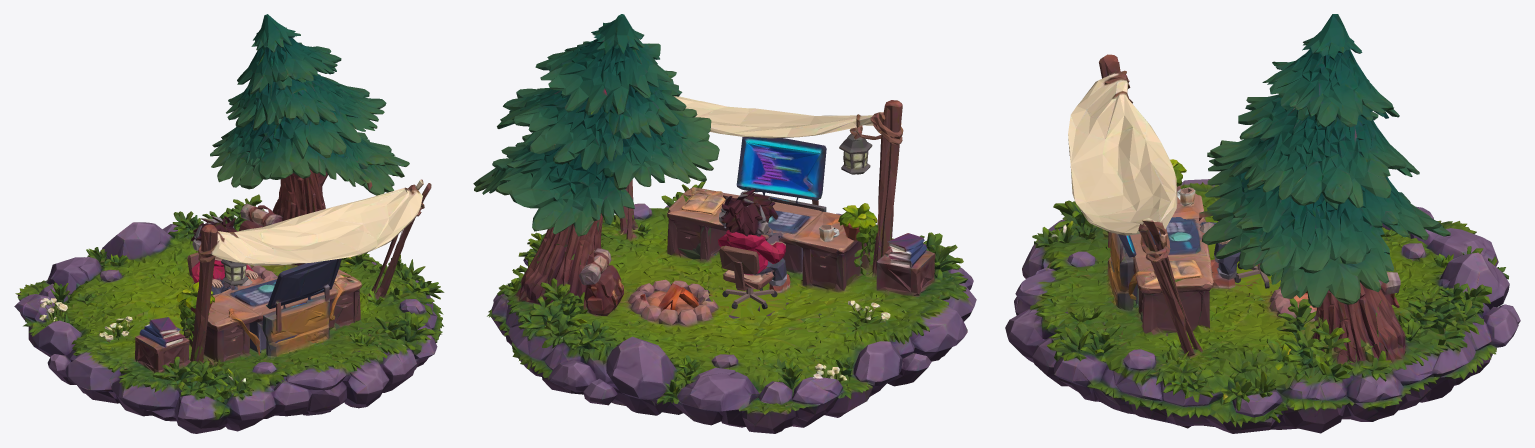
The model's file is island-desk-restored.glb.
3 renders of one model, left to right at view 1: azimuth 30°, elevation 25°; view 2: azimuth 150°, elevation 25°; view 3: azimuth 270°, elevation 25°, orthographic. The views are drawn at different scales.
Parts seen in each view (by area): view 1: Anastasiia trial ground export, model_part4 export, model_part2 export, Anastasiia trial desk export, Anastasiia trial character export; view 2: Anastasiia trial ground export, model_part4 export, Anastasiia trial desk export, model_part2 export, Anastasiia trial character export, Anastasiia trial grass export, Anastasiia trial chair export; view 3: Anastasiia trial ground export, model_part4 export, model_part2 export, Anastasiia trial desk export, Anastasiia trial grass export.
Part boxes in pixels (x1=…): Anastasiia trial ground export: x1=14, y1=194, x2=444, y2=433; model_part4 export: x1=210, y1=14, x2=409, y2=265; model_part2 export: x1=193, y1=179, x2=431, y2=360; Anastasiia trial desk export: x1=176, y1=258, x2=361, y2=362; Anastasiia trial character export: x1=187, y1=215, x2=253, y2=292; Anastasiia trial ground export: x1=487, y1=181, x2=976, y2=433; model_part4 export: x1=473, y1=14, x2=719, y2=274; Anastasiia trial desk export: x1=667, y1=137, x2=878, y2=289; model_part2 export: x1=620, y1=96, x2=903, y2=277; Anastasiia trial character export: x1=718, y1=189, x2=785, y2=290; Anastasiia trial grass export: x1=709, y1=285, x2=786, y2=317; Anastasiia trial chair export: x1=722, y1=287, x2=777, y2=309; Anastasiia trial ground export: x1=1005, y1=179, x2=1520, y2=433; model_part4 export: x1=1199, y1=14, x2=1450, y2=362; model_part2 export: x1=1068, y1=54, x2=1192, y2=356; Anastasiia trial desk export: x1=1107, y1=159, x2=1216, y2=328; Anastasiia trial grass export: x1=1230, y1=264, x2=1280, y2=295.
Bounding box in the file's own units: 1.9 × 1.48 × 1.86.
Materials: 4 (1 with a texture image).
